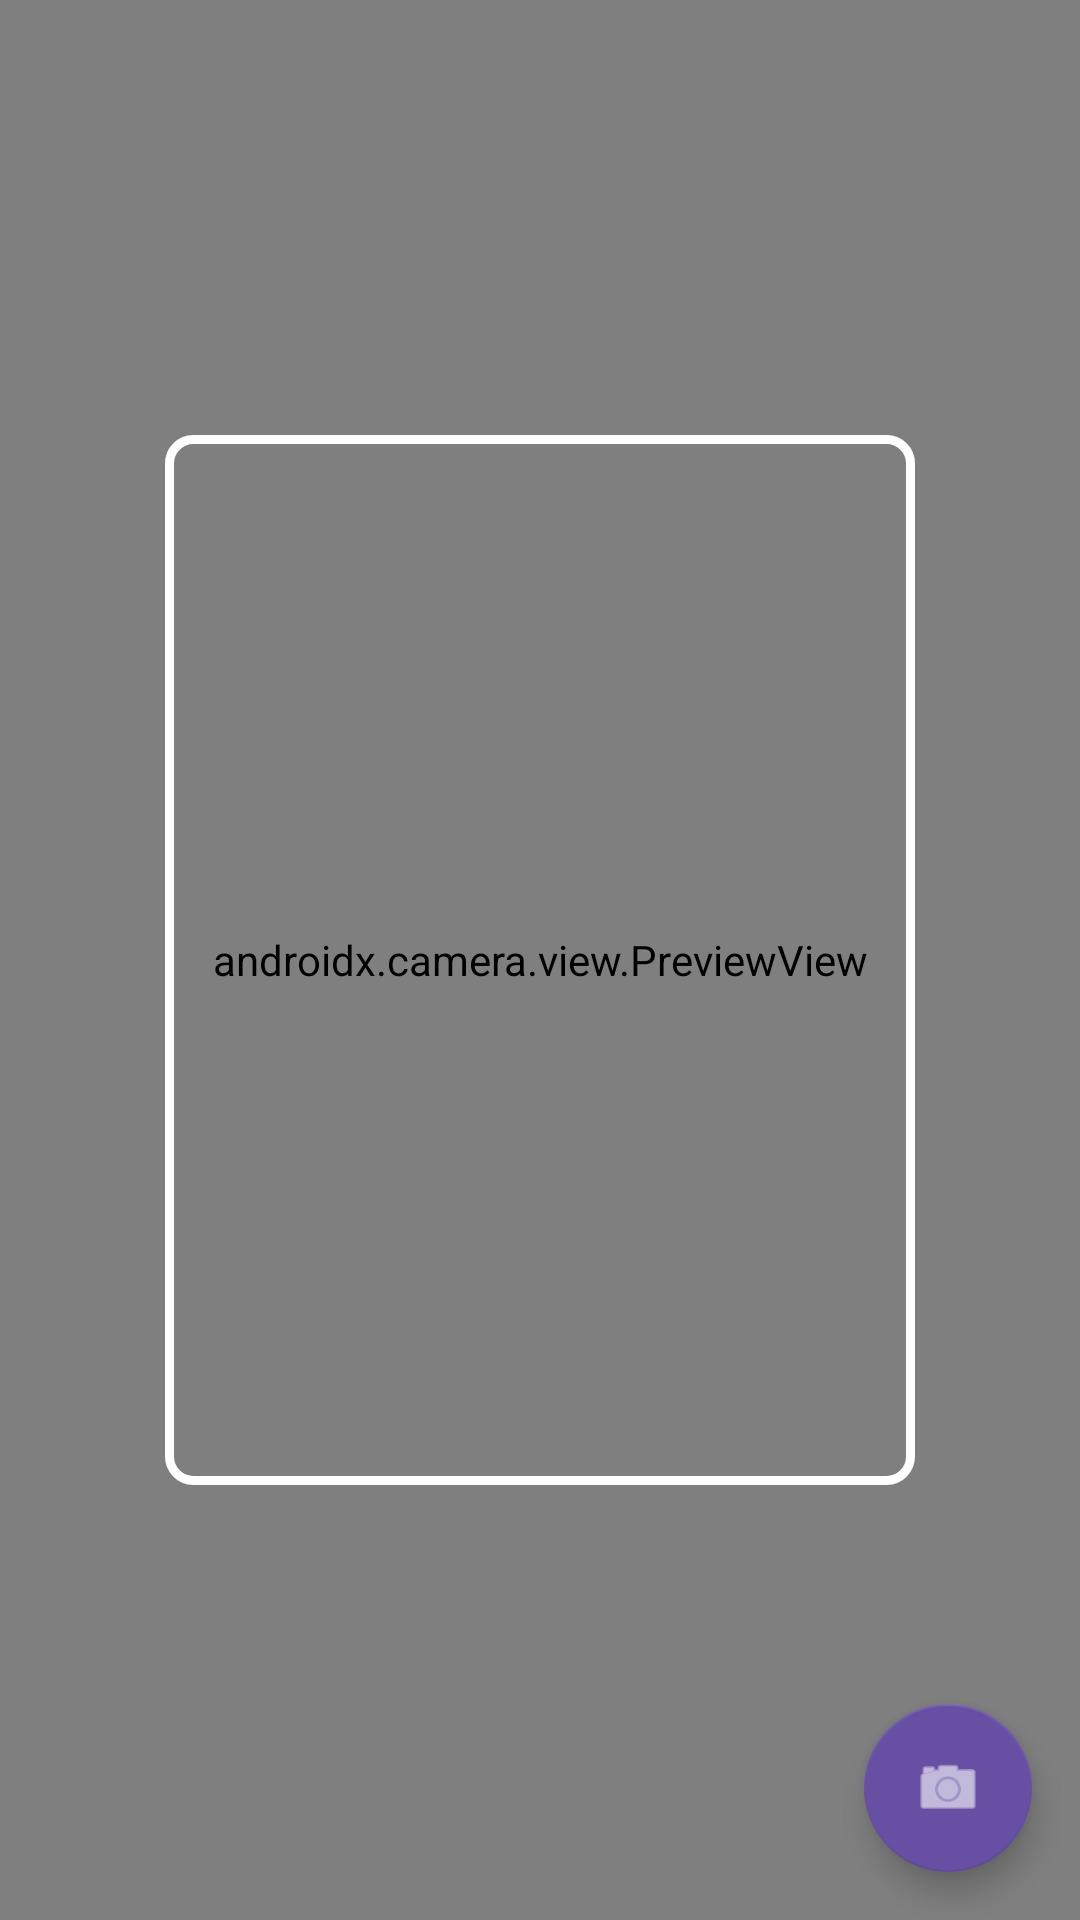

Locate icon controls on the screen. Image size 1080w x 1920h, boxes as (x1, y1, x2, y2).
Take Photo: (864, 1704, 1032, 1872)
